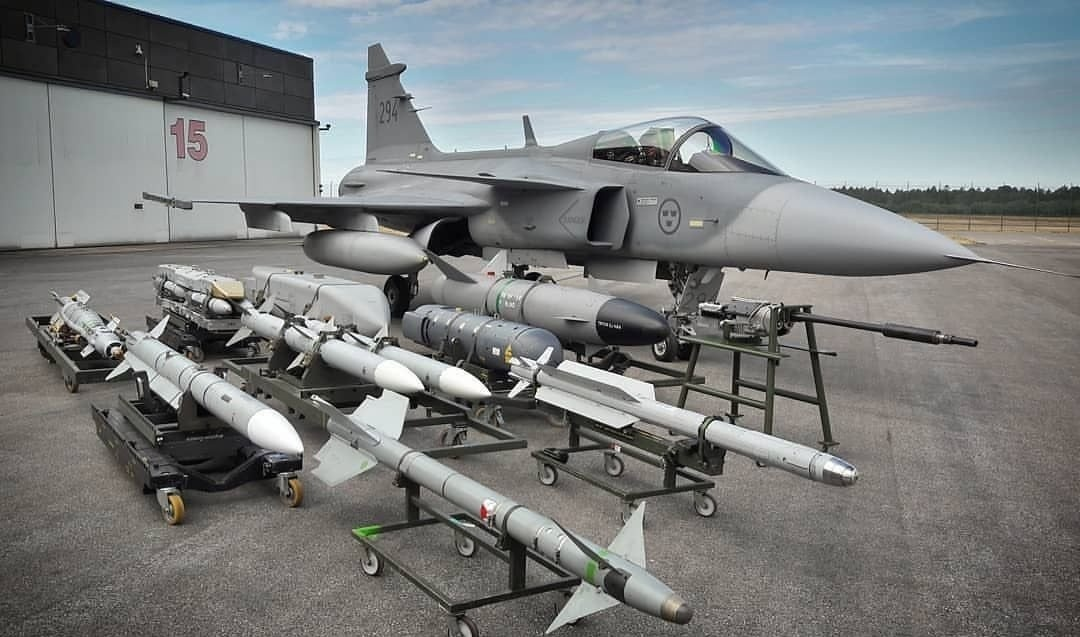JAS39: (142, 42, 1080, 362)
